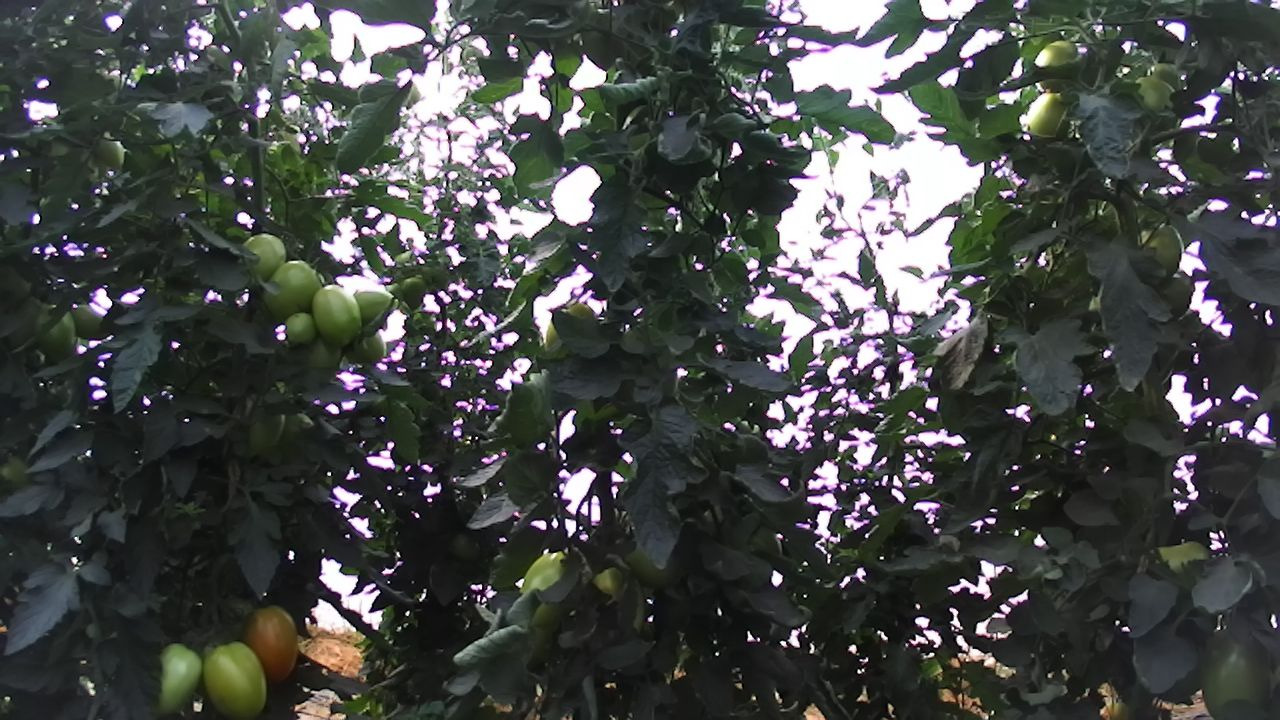tomato: (1190, 623, 1280, 720), (198, 637, 269, 720), (240, 600, 301, 688), (258, 255, 331, 325), (156, 637, 205, 719), (307, 280, 363, 350), (235, 225, 293, 287), (282, 308, 318, 349)
